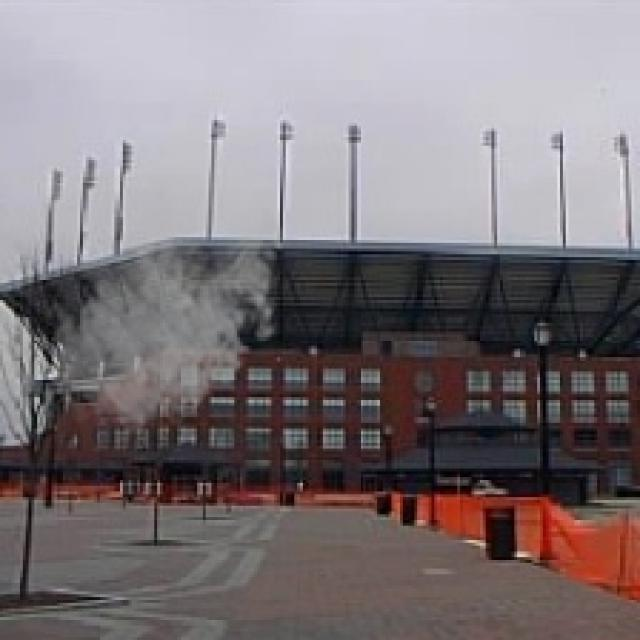Smoke: (42, 174, 292, 443)
